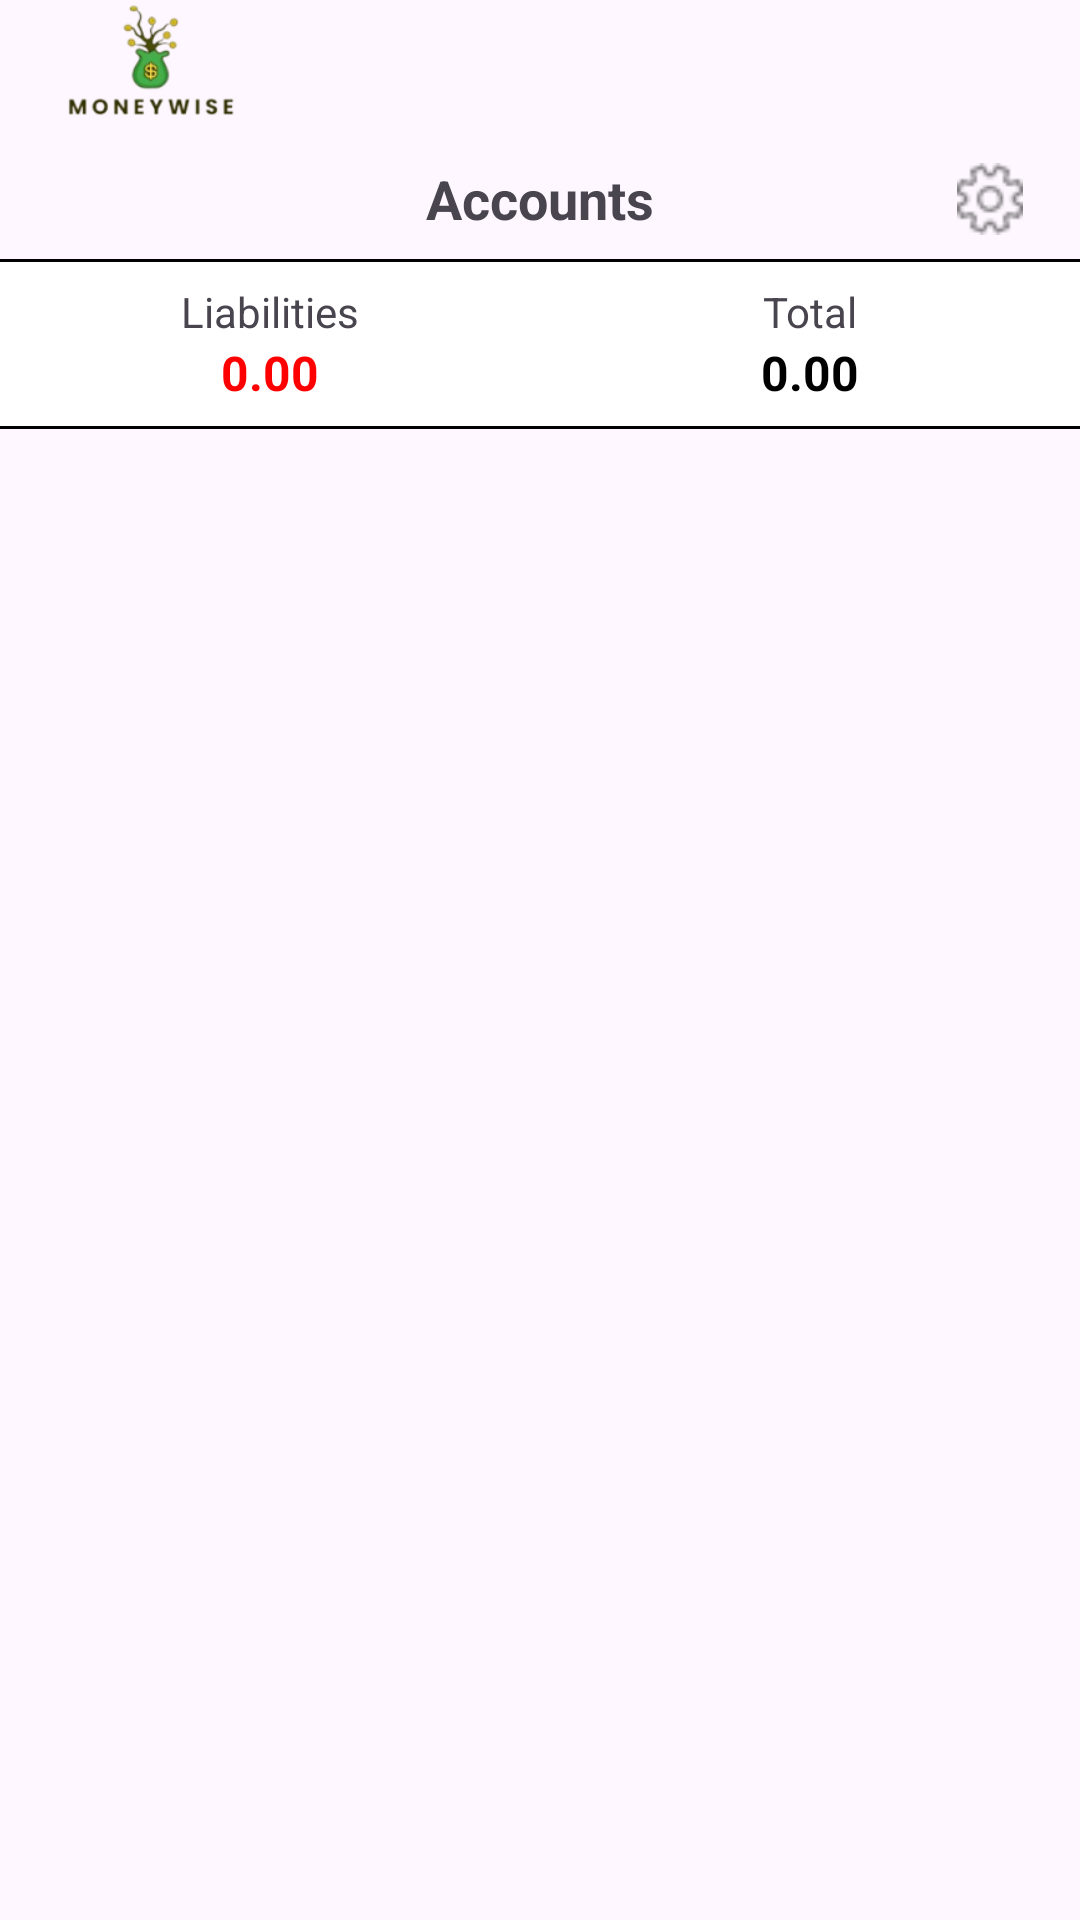

Icon bounding boxes for this 1080 x 1920 phone screenshot, format (x1, y1, x2, y2):
setting button: (957, 163, 1023, 235)
